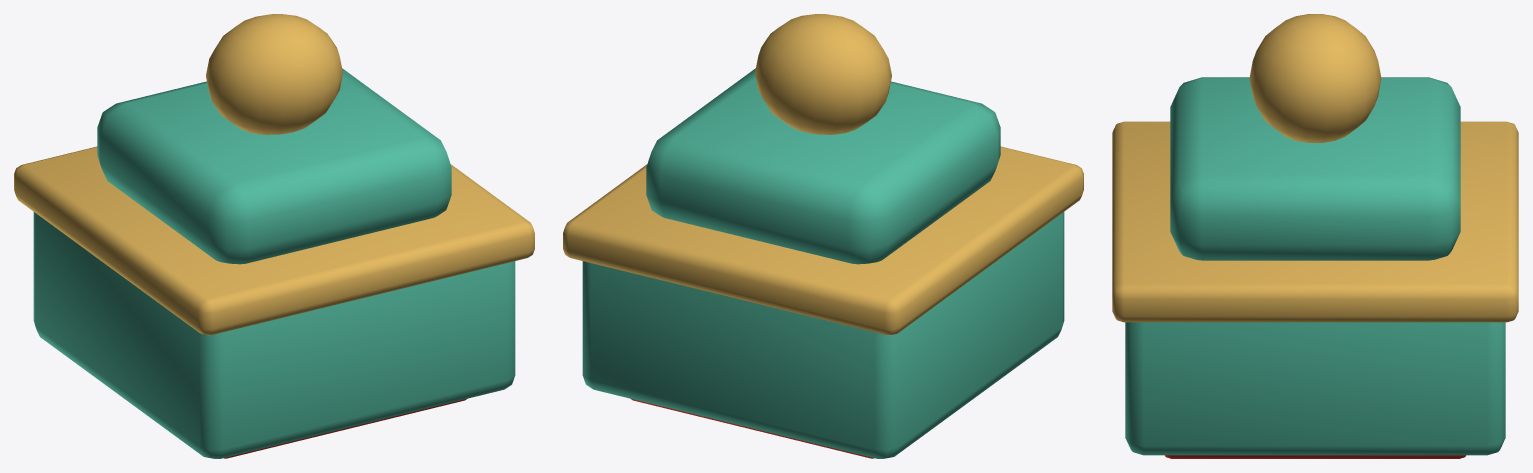
File: yuxi.glb
3 views of the same model, side by side, from view 1: azimuth 30°, elevation 25°; view 2: azimuth 150°, elevation 25°; view 3: azimuth 270°, elevation 25° (orthographic). The views are drawn at different scales.
Visible parts, largest first — view 1: yuxi; view 2: yuxi; view 3: yuxi.
Part boxes in pixels (box(x1,y1,x2,y2)): yuxi: box(14, 14, 534, 458); yuxi: box(563, 14, 1083, 458); yuxi: box(1112, 14, 1518, 458).
Bounding box in the file's own units: 0.9778 × 1 × 0.9778.
